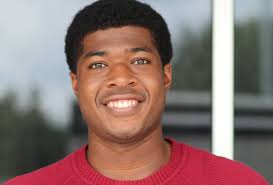no-mask: (69, 8, 179, 148)
